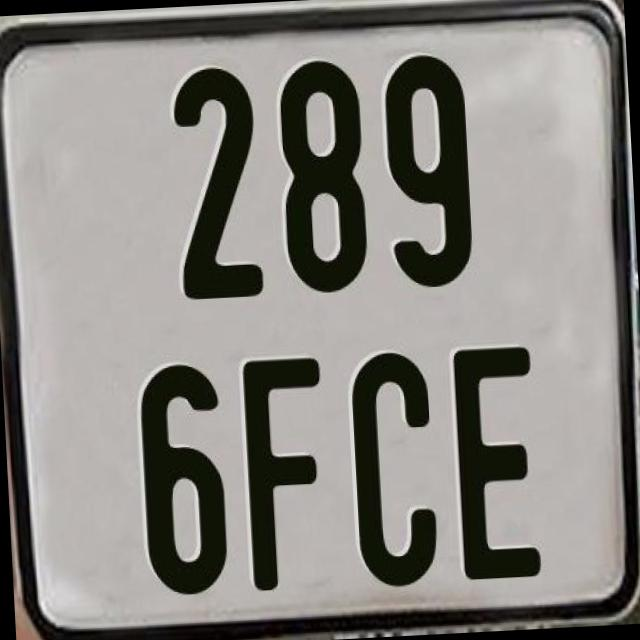2: (168, 64, 266, 303)
6: (137, 359, 230, 603)
8: (276, 56, 369, 302)
9: (380, 48, 480, 289)
C: (348, 350, 439, 595)
E: (452, 344, 548, 585)
F: (242, 352, 336, 586)
